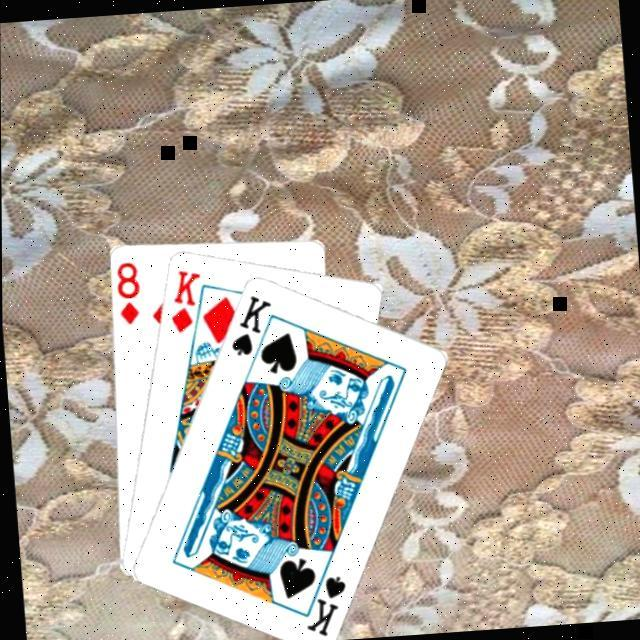8D: (110, 257, 142, 329)
KD: (162, 266, 206, 336)
KS: (295, 560, 350, 640), (222, 290, 276, 360)
